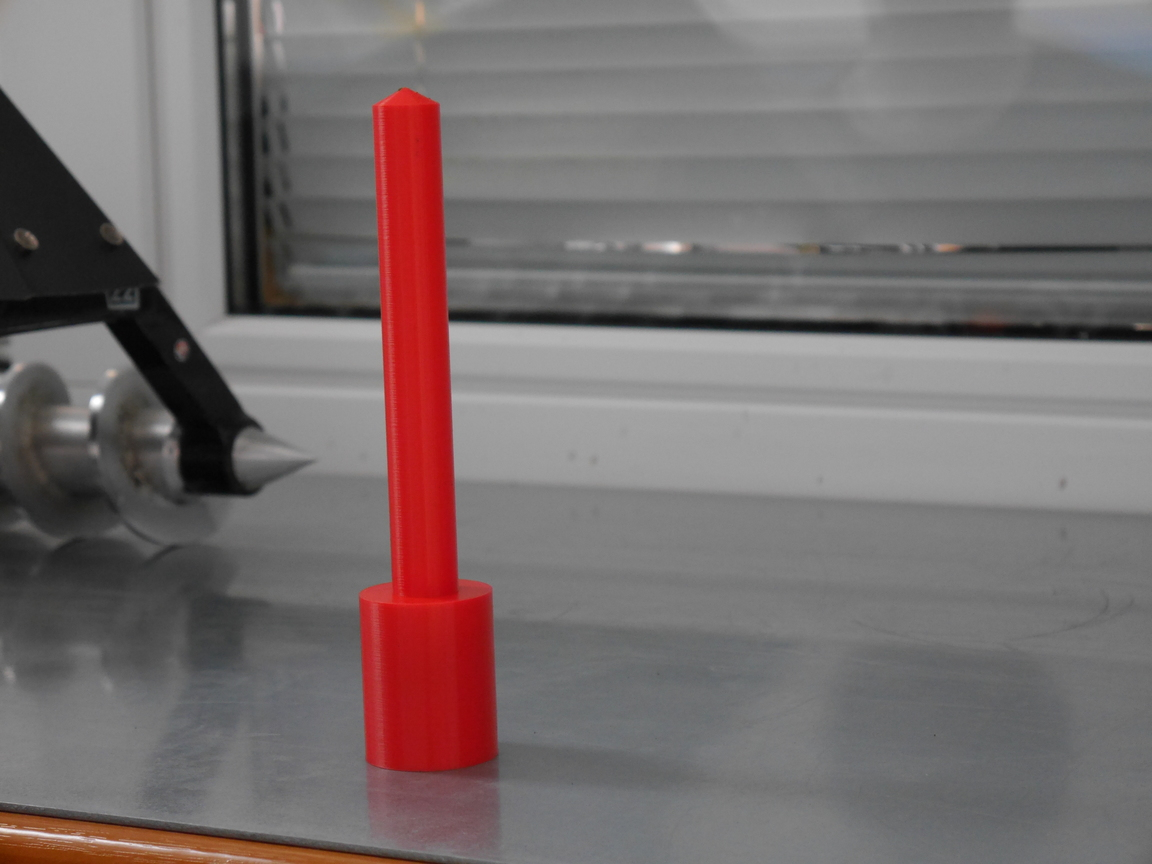cargo_g: (356, 86, 500, 772)
